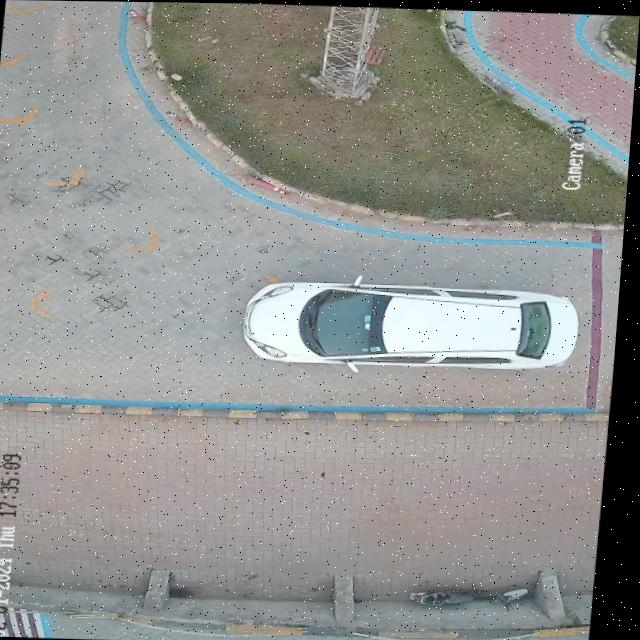car: (247, 277, 587, 367)
